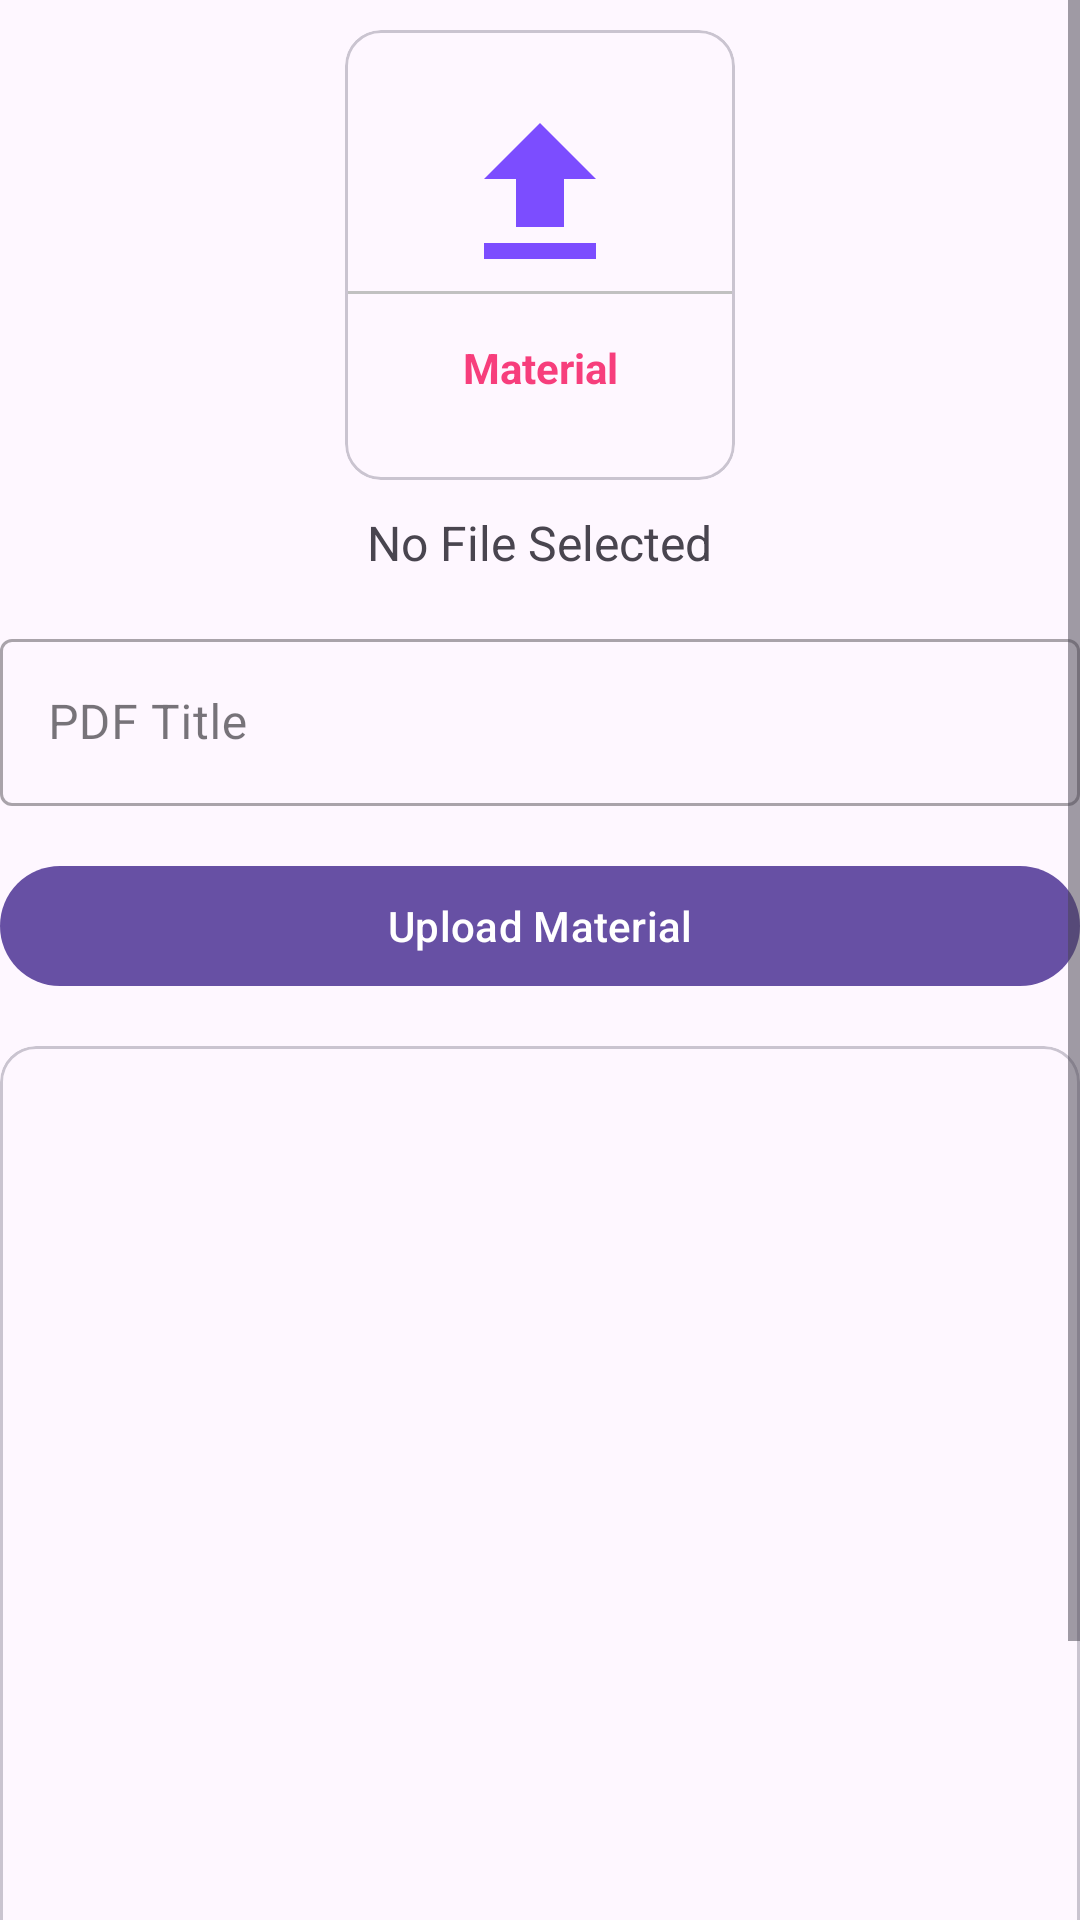

Named icons in this screenshot (1080px×1920px) and their centers, [x,y]:
uploade: [540,191]
